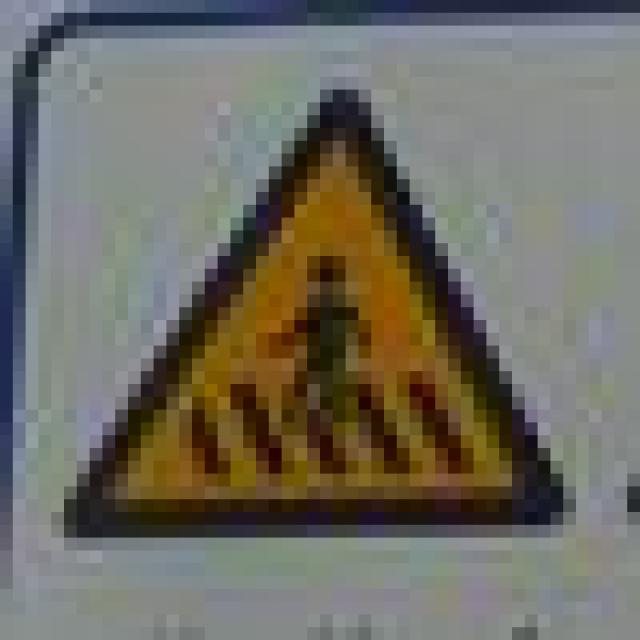PEDESTRIAN_CROSSING: (39, 64, 564, 525)
